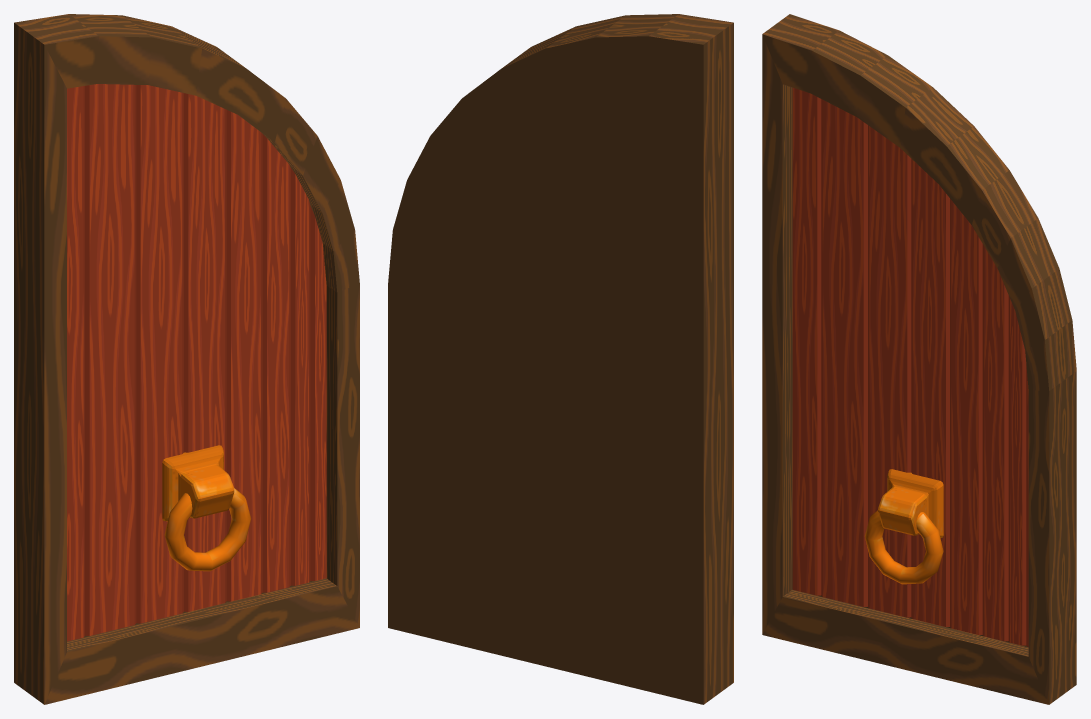
Rendered from BigDoor-R-Detailed.glb.
3 renders of one model, left to right at view 1: azimuth 30°, elevation 25°; view 2: azimuth 150°, elevation 25°; view 3: azimuth 330°, elevation 25°, orthographic. The views are drawn at different scales.
Visible parts, largest first — view 1: BigDoor-L-Detailed.004, BigDoor-L-Detailed.003, Cube.105, Torus.002; view 2: BigDoor-L-Detailed.003; view 3: BigDoor-L-Detailed.004, BigDoor-L-Detailed.003, Cube.105, Torus.002.
Boxes of the visible parts, bbox=[...] form: BigDoor-L-Detailed.004: bbox=[67, 84, 326, 641]; BigDoor-L-Detailed.003: bbox=[14, 14, 359, 704]; Cube.105: bbox=[162, 445, 234, 521]; Torus.002: bbox=[164, 488, 250, 571]; BigDoor-L-Detailed.003: bbox=[388, 14, 733, 704]; BigDoor-L-Detailed.004: bbox=[792, 87, 1028, 647]; BigDoor-L-Detailed.003: bbox=[762, 14, 1076, 704]; Cube.105: bbox=[878, 469, 943, 537]; Torus.002: bbox=[864, 510, 943, 584].
Size of the model in its own units: 3 by 6 by 0.7248.
1 material, 1 textured.
